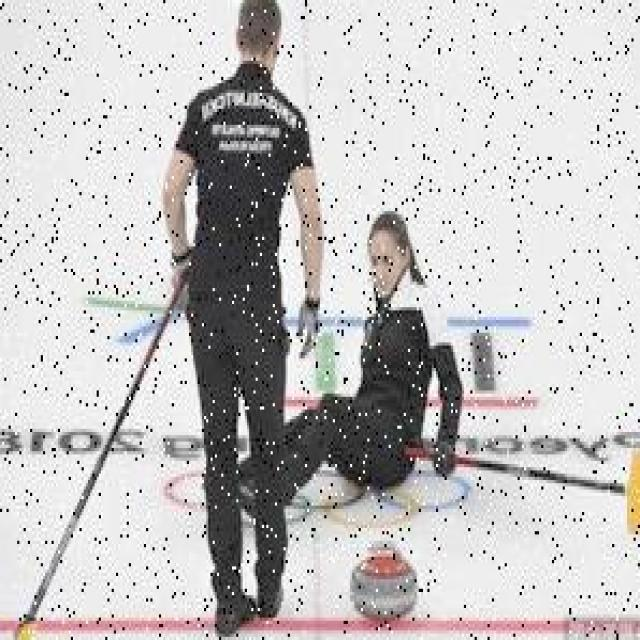fall: (232, 218, 456, 512)
